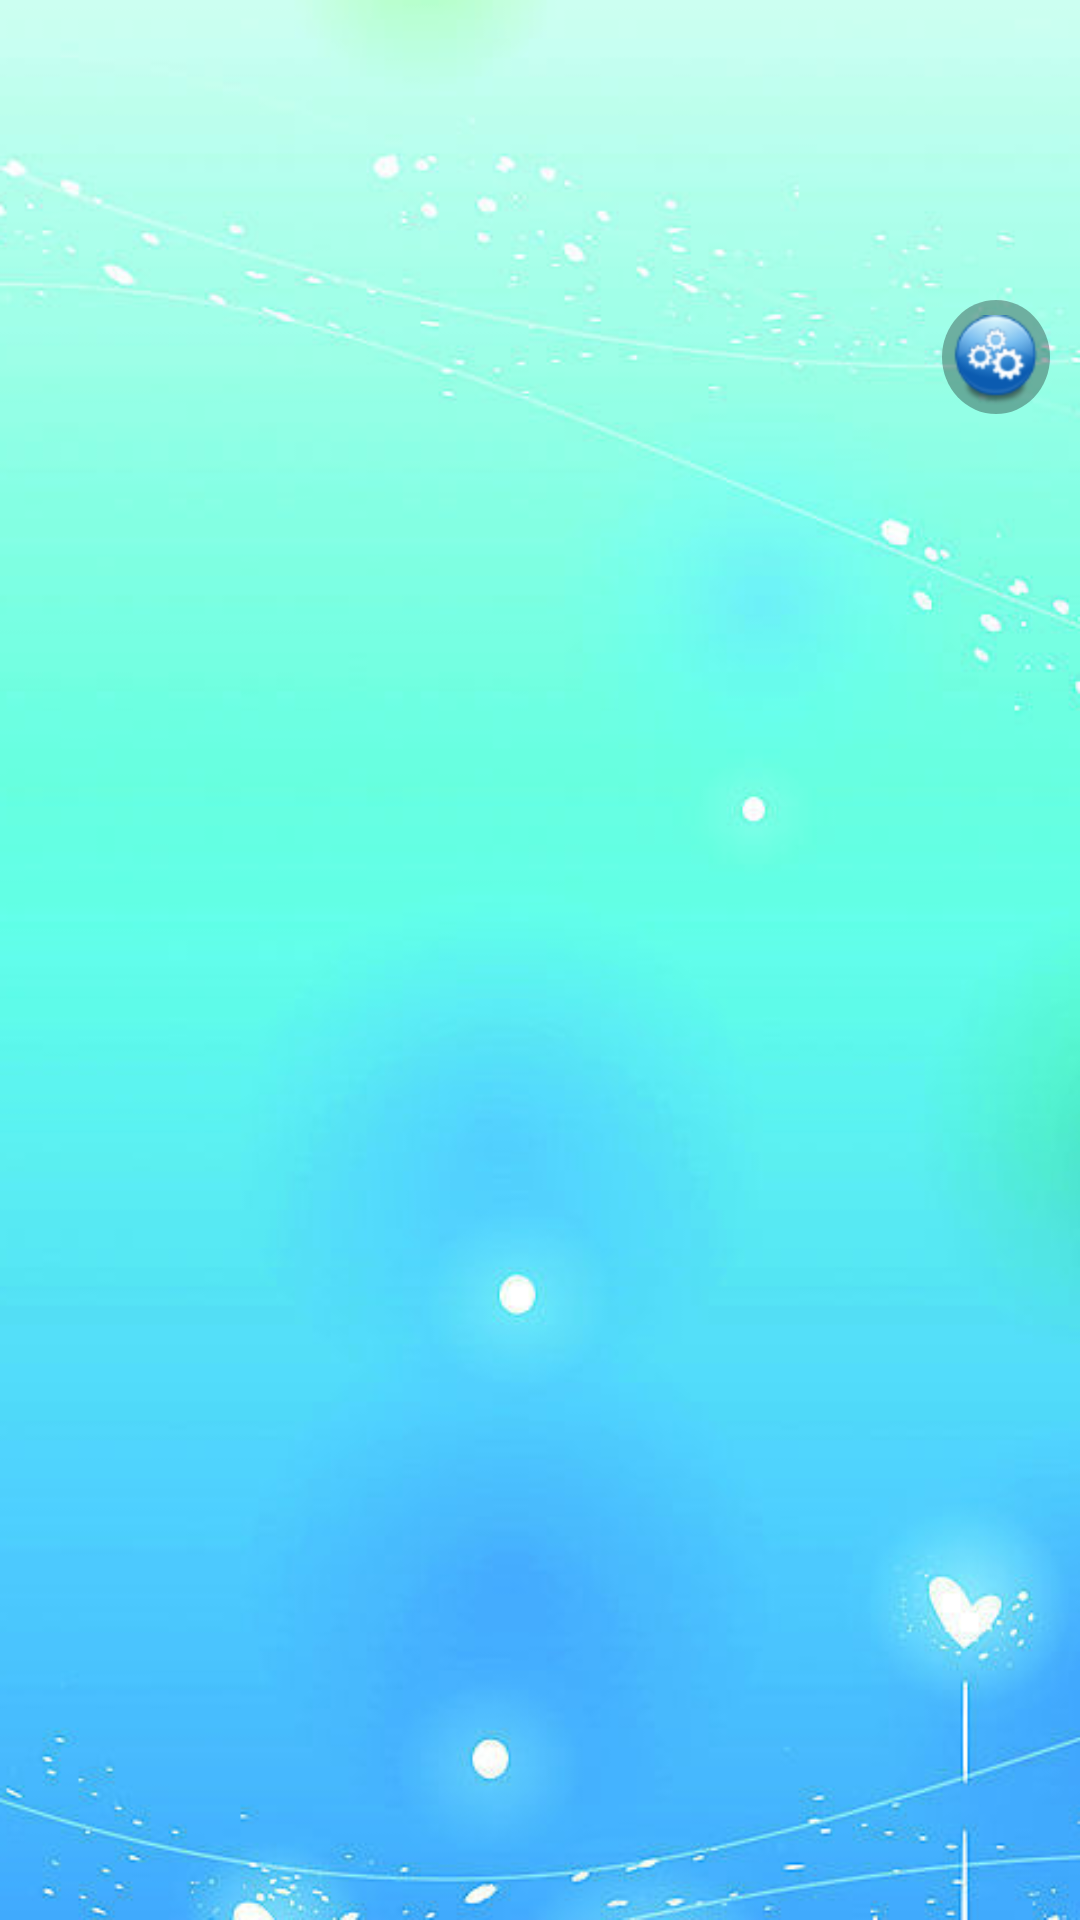

Where icons sit on this 1080px×1920px app screen, as (x1, y1, x2, y2):
home settings: (942, 300, 1050, 414)
